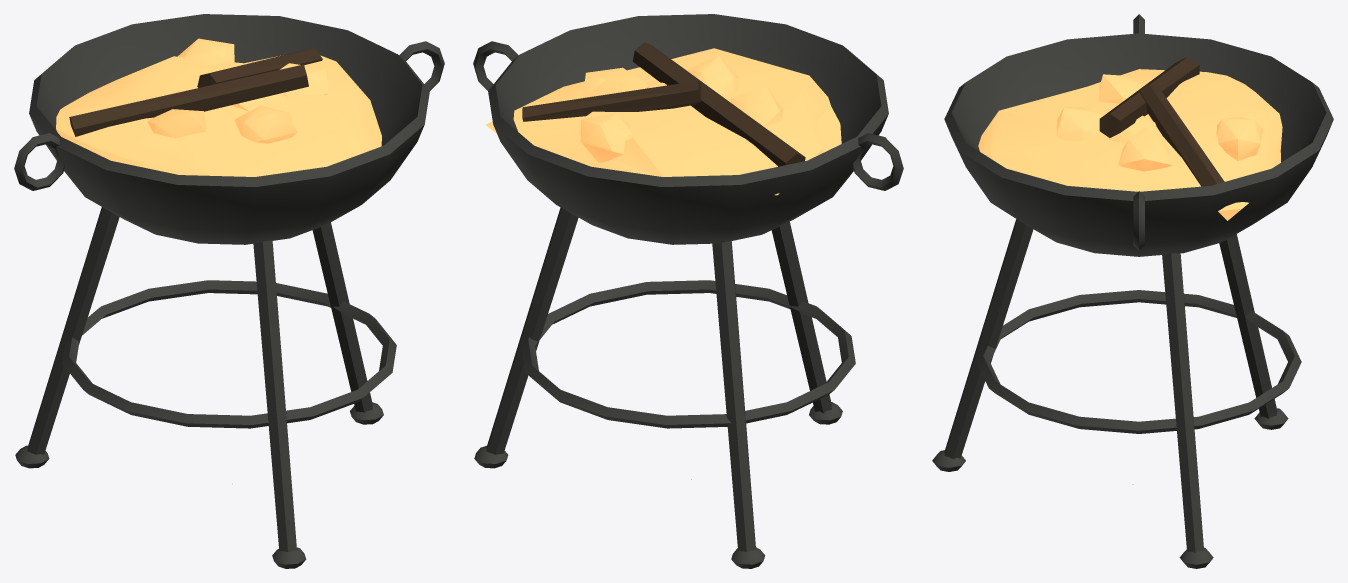
The model's file is hx_brasero.glb.
3 renders of one model, left to right at view 1: azimuth 30°, elevation 25°; view 2: azimuth 150°, elevation 25°; view 3: azimuth 270°, elevation 25°, orthographic. The views are drawn at different scales.
Parts seen in each view (by area): view 1: hx_brasero_geometry; view 2: hx_brasero_geometry; view 3: hx_brasero_geometry.
Boxes of the visible parts, <box> form: hx_brasero_geometry: <box>14,14,444,568</box>; hx_brasero_geometry: <box>473,14,903,568</box>; hx_brasero_geometry: <box>932,14,1333,568</box>.
Size of the model in its own units: 0.984 by 0.9056 by 0.825.
